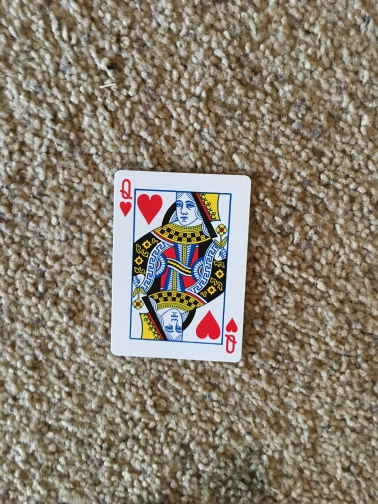queen: (111, 170, 252, 364)
